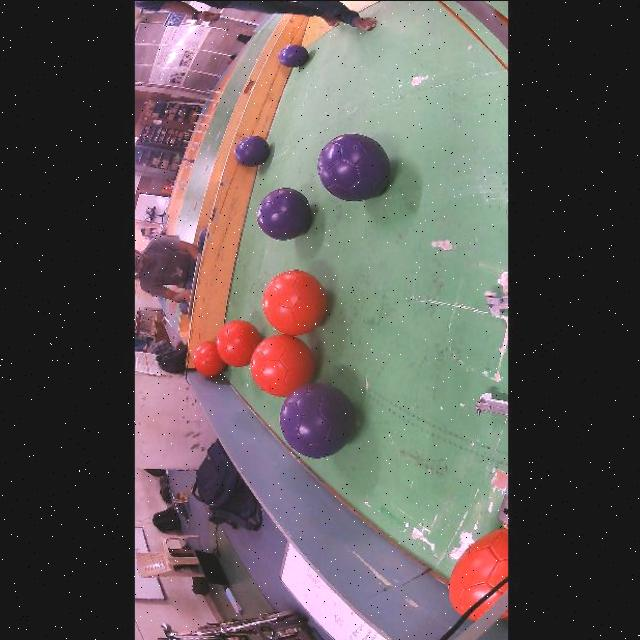P: (278, 383, 352, 458), (317, 132, 389, 201), (255, 187, 310, 240), (233, 135, 268, 166), (276, 44, 307, 67)
R: (446, 526, 507, 614), (262, 269, 325, 335), (249, 334, 314, 397), (215, 319, 260, 367), (469, 584, 506, 619), (191, 341, 225, 376)
